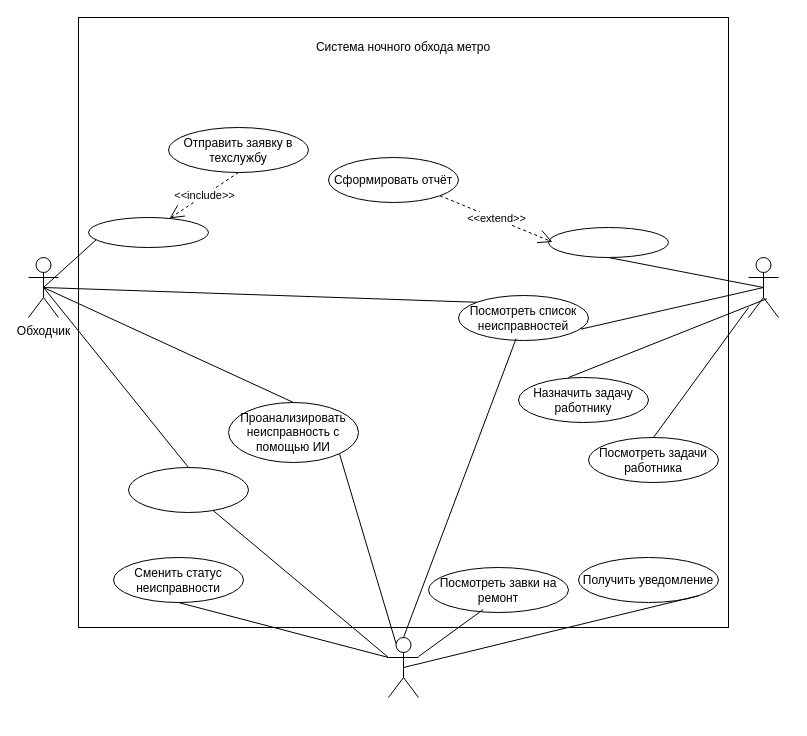
This 807x736 diagram has some shape labels left out. Each missing label, with the centre of its shape:
"Бригадир" goes at pixel 763 287.
"Записать неисправность" goes at pixel 148 232.
"Зписать смену" goes at pixel 608 242.
"Пройти чек-лист на смене" goes at pixel 188 489.
"Ремотник" goes at pixel 403 667.
